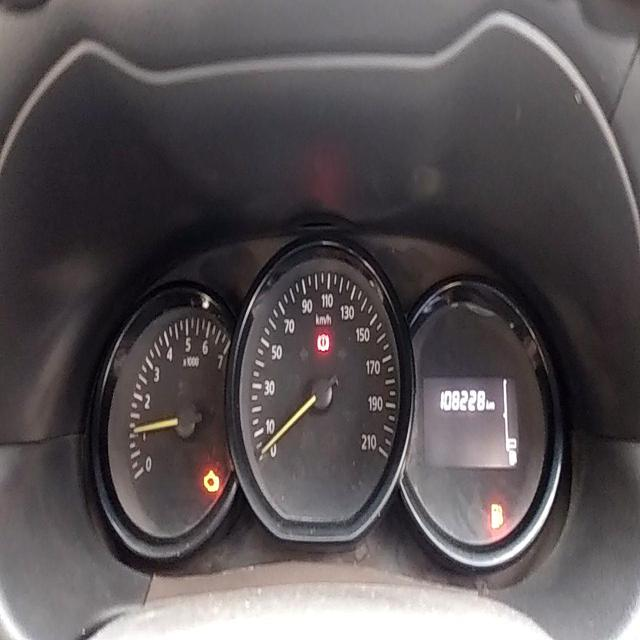odometer: (439, 384, 485, 416)
